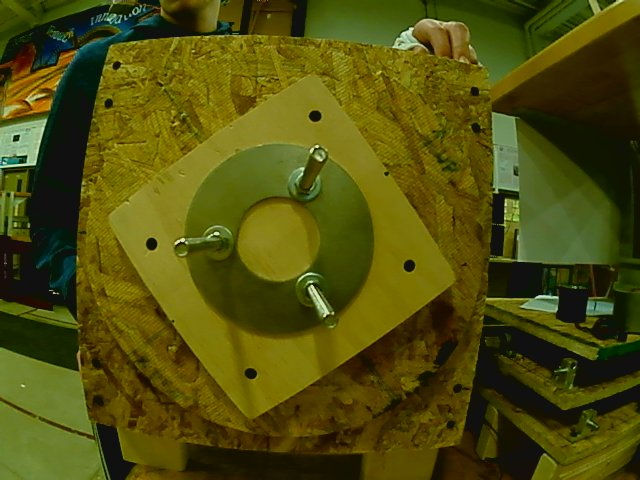bolt: (201, 224, 238, 262), (295, 271, 330, 311), (287, 165, 322, 204)
